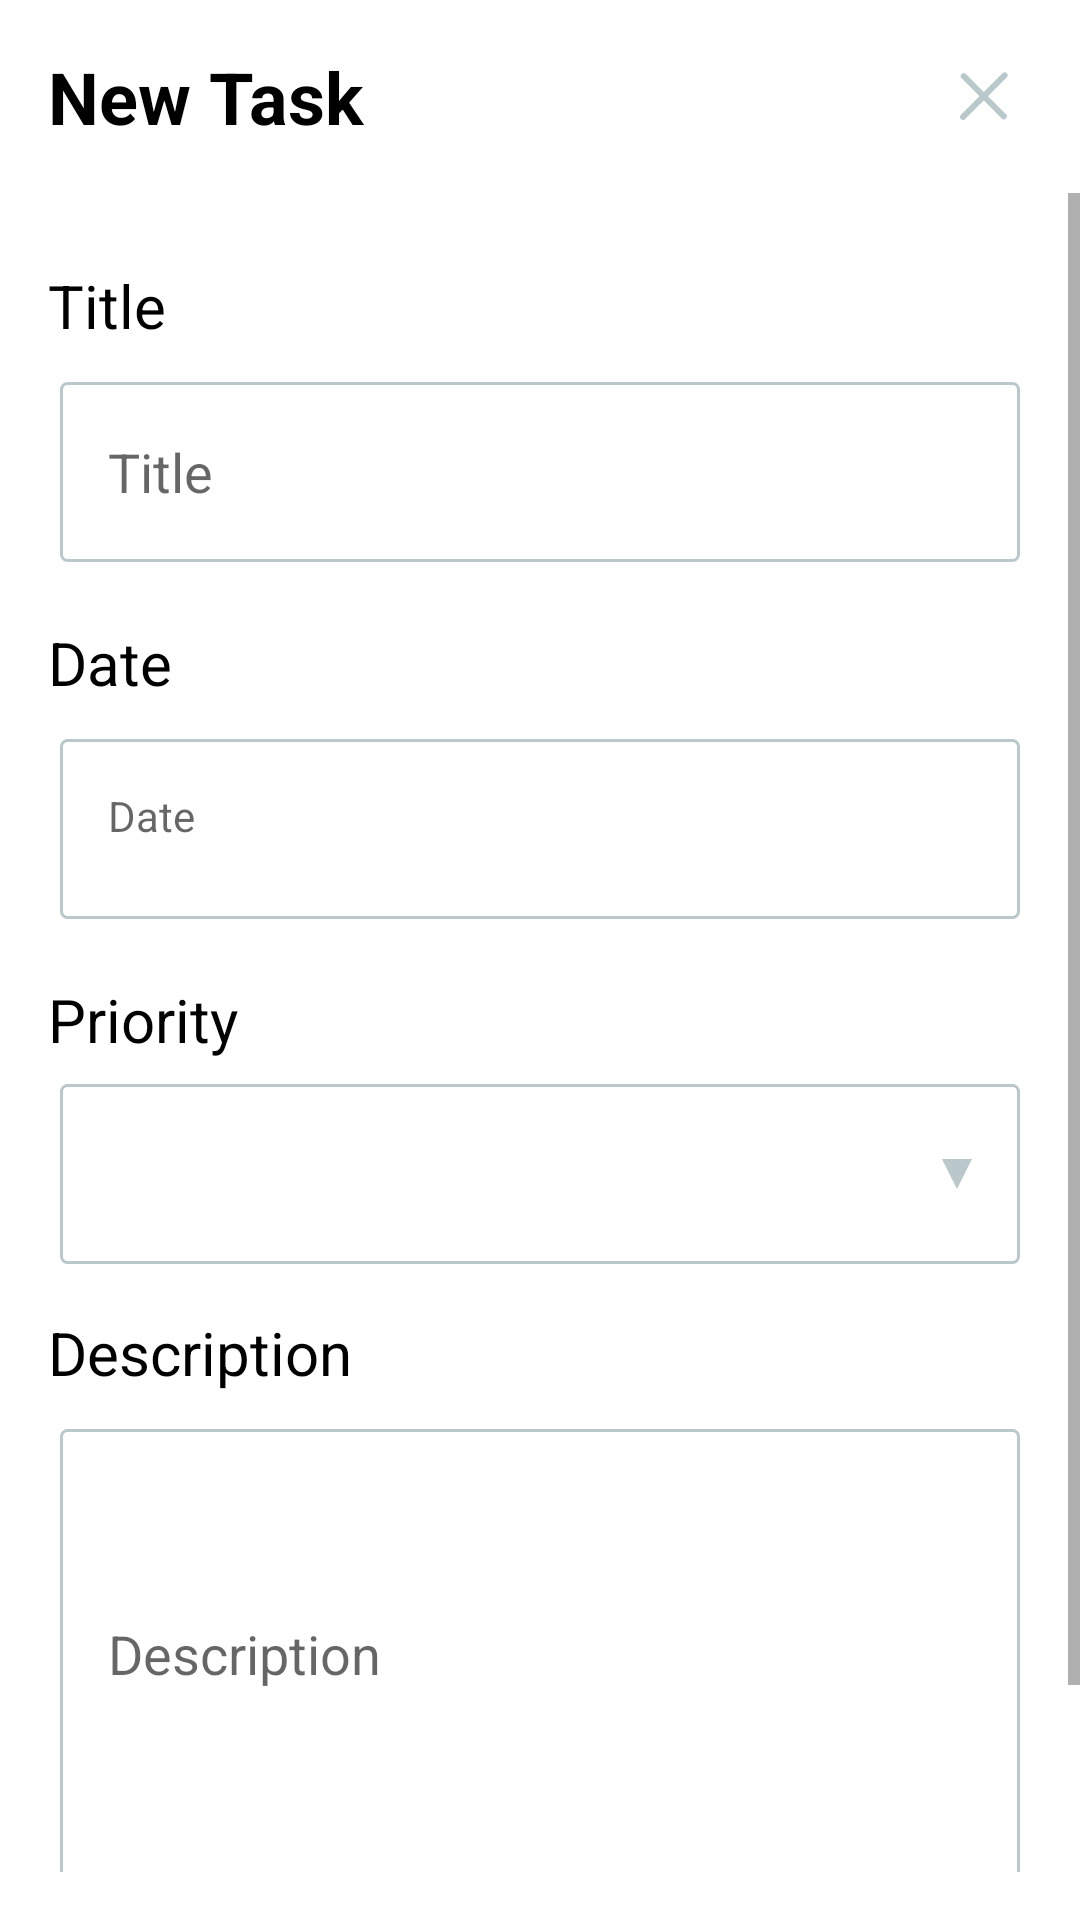

Where icons sit on this 1080x1920 app screen, as region(x1, y1, x2, y2):
arrow down: region(942, 1159, 972, 1188)
close: region(960, 72, 1008, 120)
